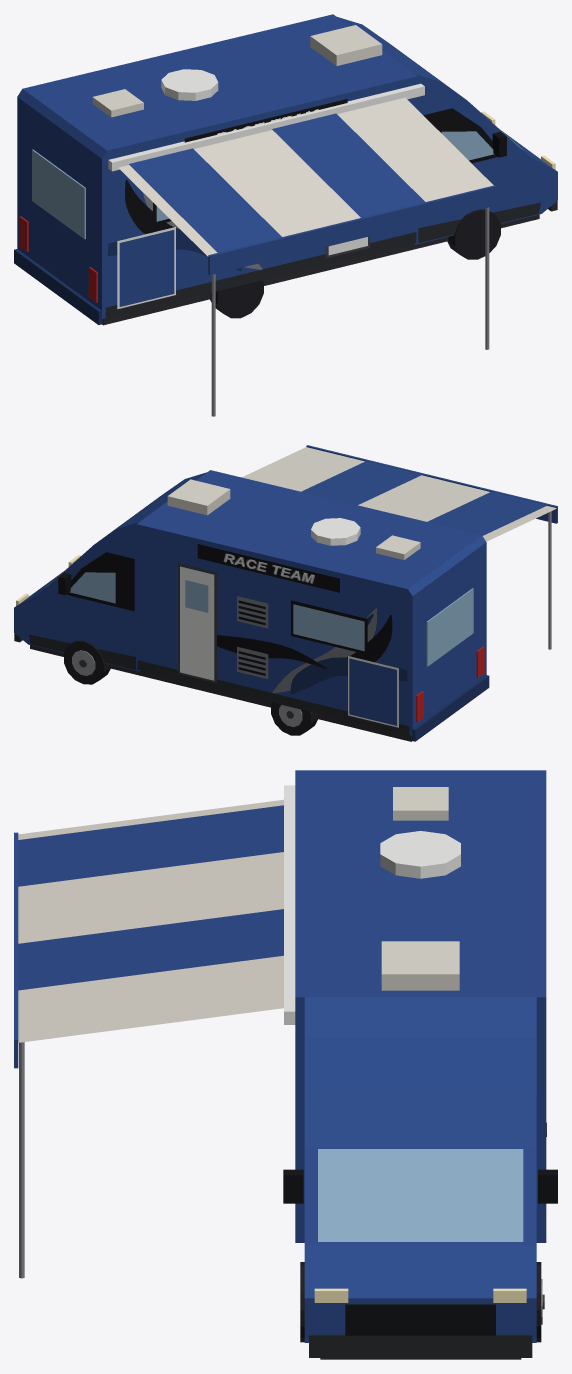
File: motorhome.glb
3 renders of one model, top to bottom at view 1: azimuth 30°, elevation 25°; view 2: azimuth 150°, elevation 25°; view 3: azimuth 270°, elevation 25°, orthographic. The views are drawn at different scales.
Parts seen in each view (by area): view 1: Body, Awning; view 2: Body, Awning; view 3: Body, Awning.
Boxes of the visible parts, <box> form: Body: <box>14,14,557,325</box>; Awning: <box>119,97,496,416</box>; Body: <box>14,470,489,741</box>; Awning: <box>242,445,557,649</box>; Body: <box>283,770,557,1359</box>; Awning: <box>14,799,283,1278</box>.
Size of the model in its own units: 7.12 by 3.11 by 4.88.
16 materials, 1 textured.
